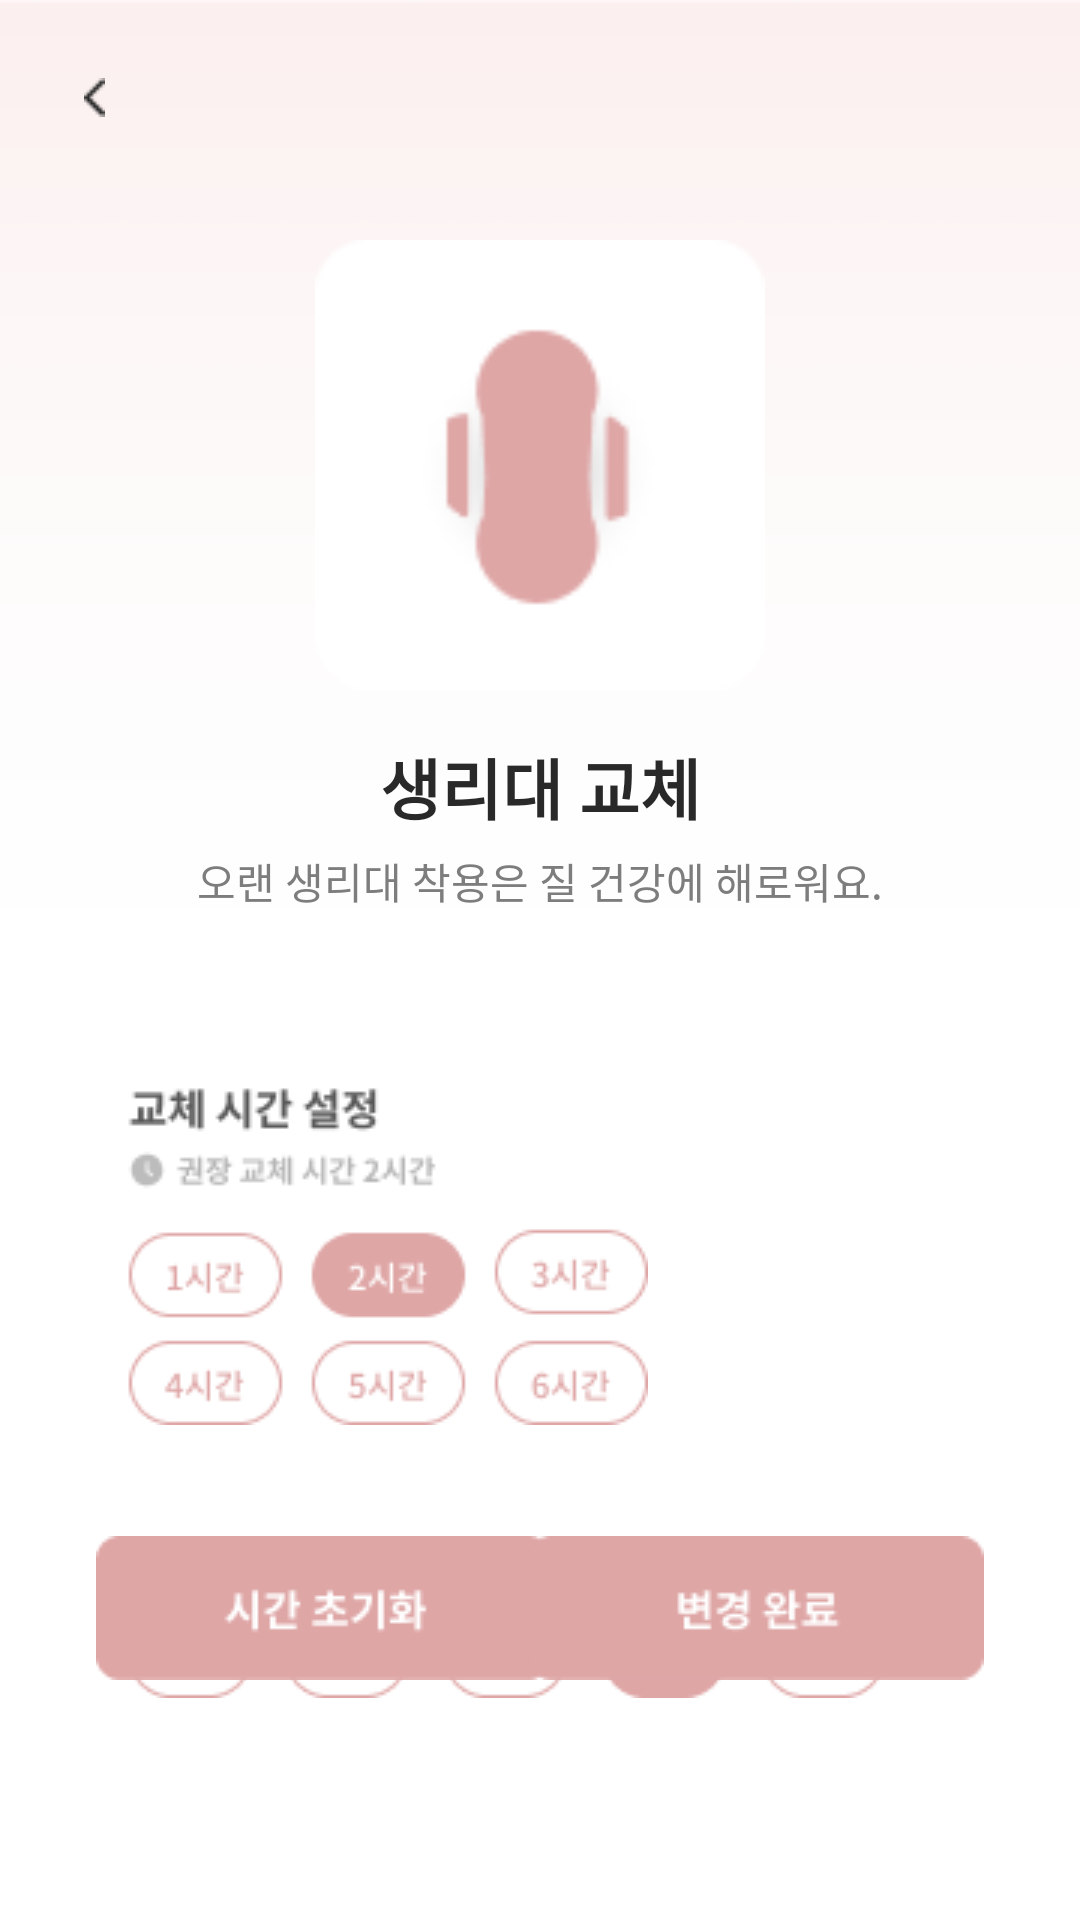

Named icons in this screenshot (1080w x 1920h) and their centers, point (x, y):
alarm pad: point (537, 467)
backbutton: point (94, 97)
